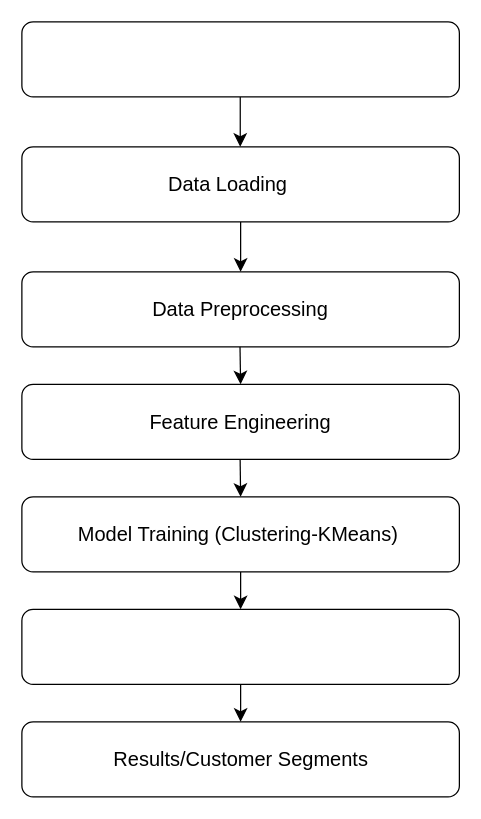
Image size: 481x819. Some labels were removed from this diagram. The centre of each missing label's shape, as x and y in pixels:
Dataset Selection: (240,59)
Model Evaluation: (240,646)
